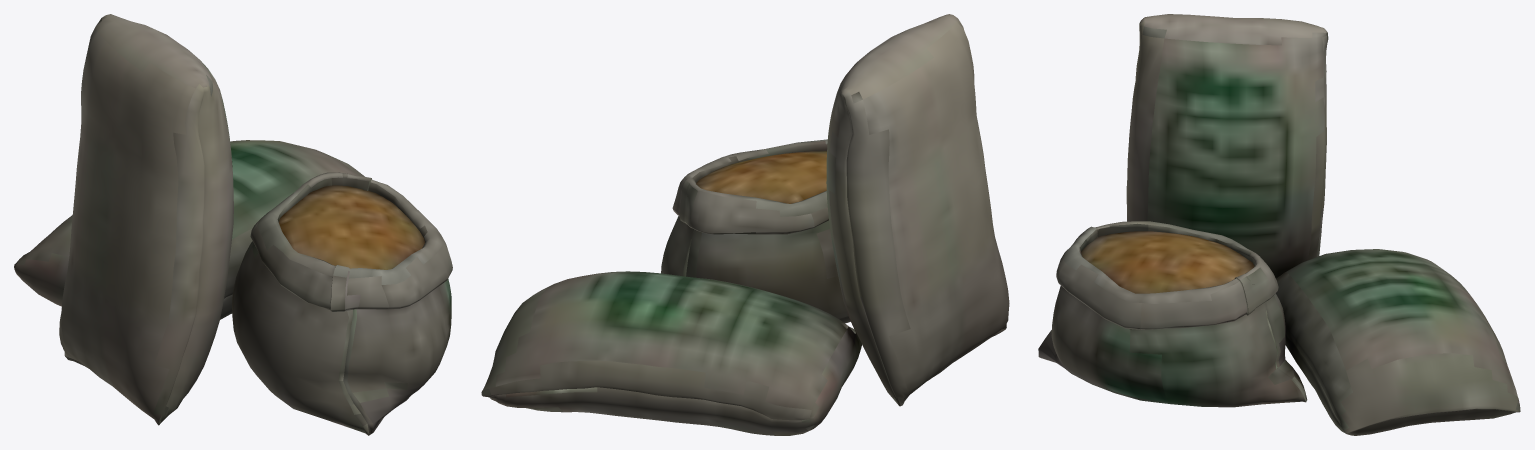
The model's file is organic fertilizer.fbx.
3 renders of one model, left to right at view 1: azimuth 30°, elevation 25°; view 2: azimuth 150°, elevation 25°; view 3: azimuth 270°, elevation 25°, orthographic. The views are drawn at different scales.
Parts seen in each view (by area): view 1: organic fertilizer, organic fertilizer.001, organic fertilizer.002; view 2: organic fertilizer, organic fertilizer.002, organic fertilizer.001; view 3: organic fertilizer, organic fertilizer.001, organic fertilizer.002.
Part boxes in pixels (x1,y1,x2,y2): organic fertilizer: [59, 14, 233, 425]; organic fertilizer.001: [232, 172, 452, 435]; organic fertilizer.002: [14, 140, 364, 319]; organic fertilizer: [826, 14, 1009, 406]; organic fertilizer.002: [481, 271, 861, 435]; organic fertilizer.001: [661, 139, 850, 323]; organic fertilizer: [1126, 14, 1328, 278]; organic fertilizer.001: [1038, 221, 1307, 407]; organic fertilizer.002: [1276, 249, 1520, 435].
Bounding box in the file's own units: 105 × 86.98 × 128.
